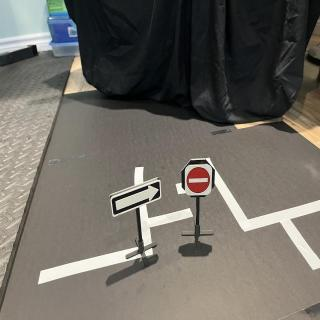sign_noentry: (185, 165, 214, 199)
sign_oneway_right: (111, 177, 164, 219)
